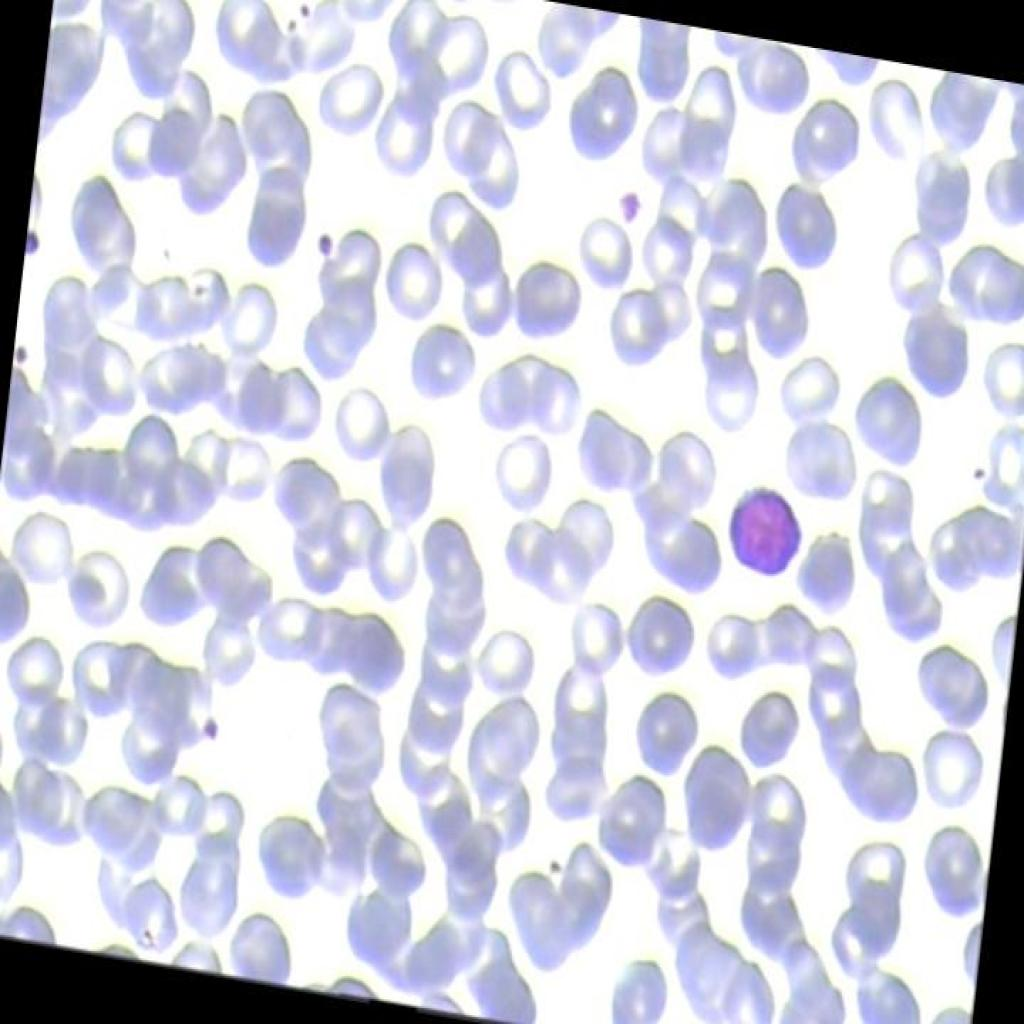Limfosit: (708, 462, 819, 599)
Platelet: (300, 214, 356, 268), (957, 444, 997, 496), (23, 204, 54, 270), (608, 183, 646, 229), (189, 702, 229, 743), (12, 327, 42, 377), (277, 14, 310, 50), (288, 0, 314, 21)
